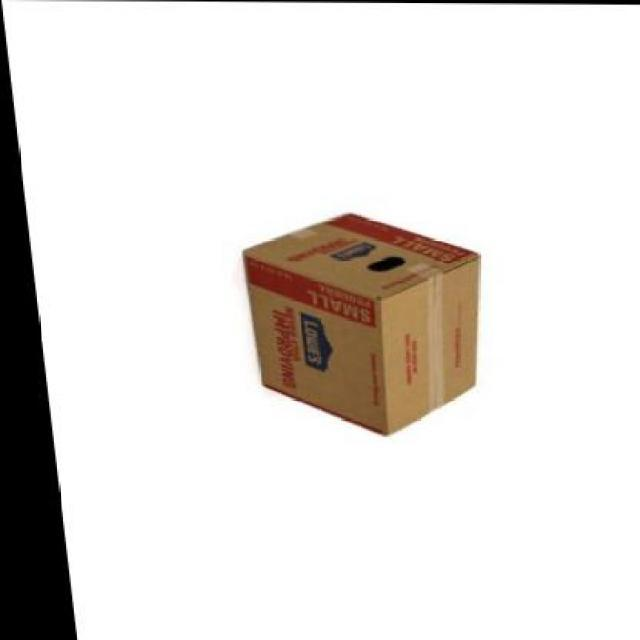box: (237, 210, 495, 436)
